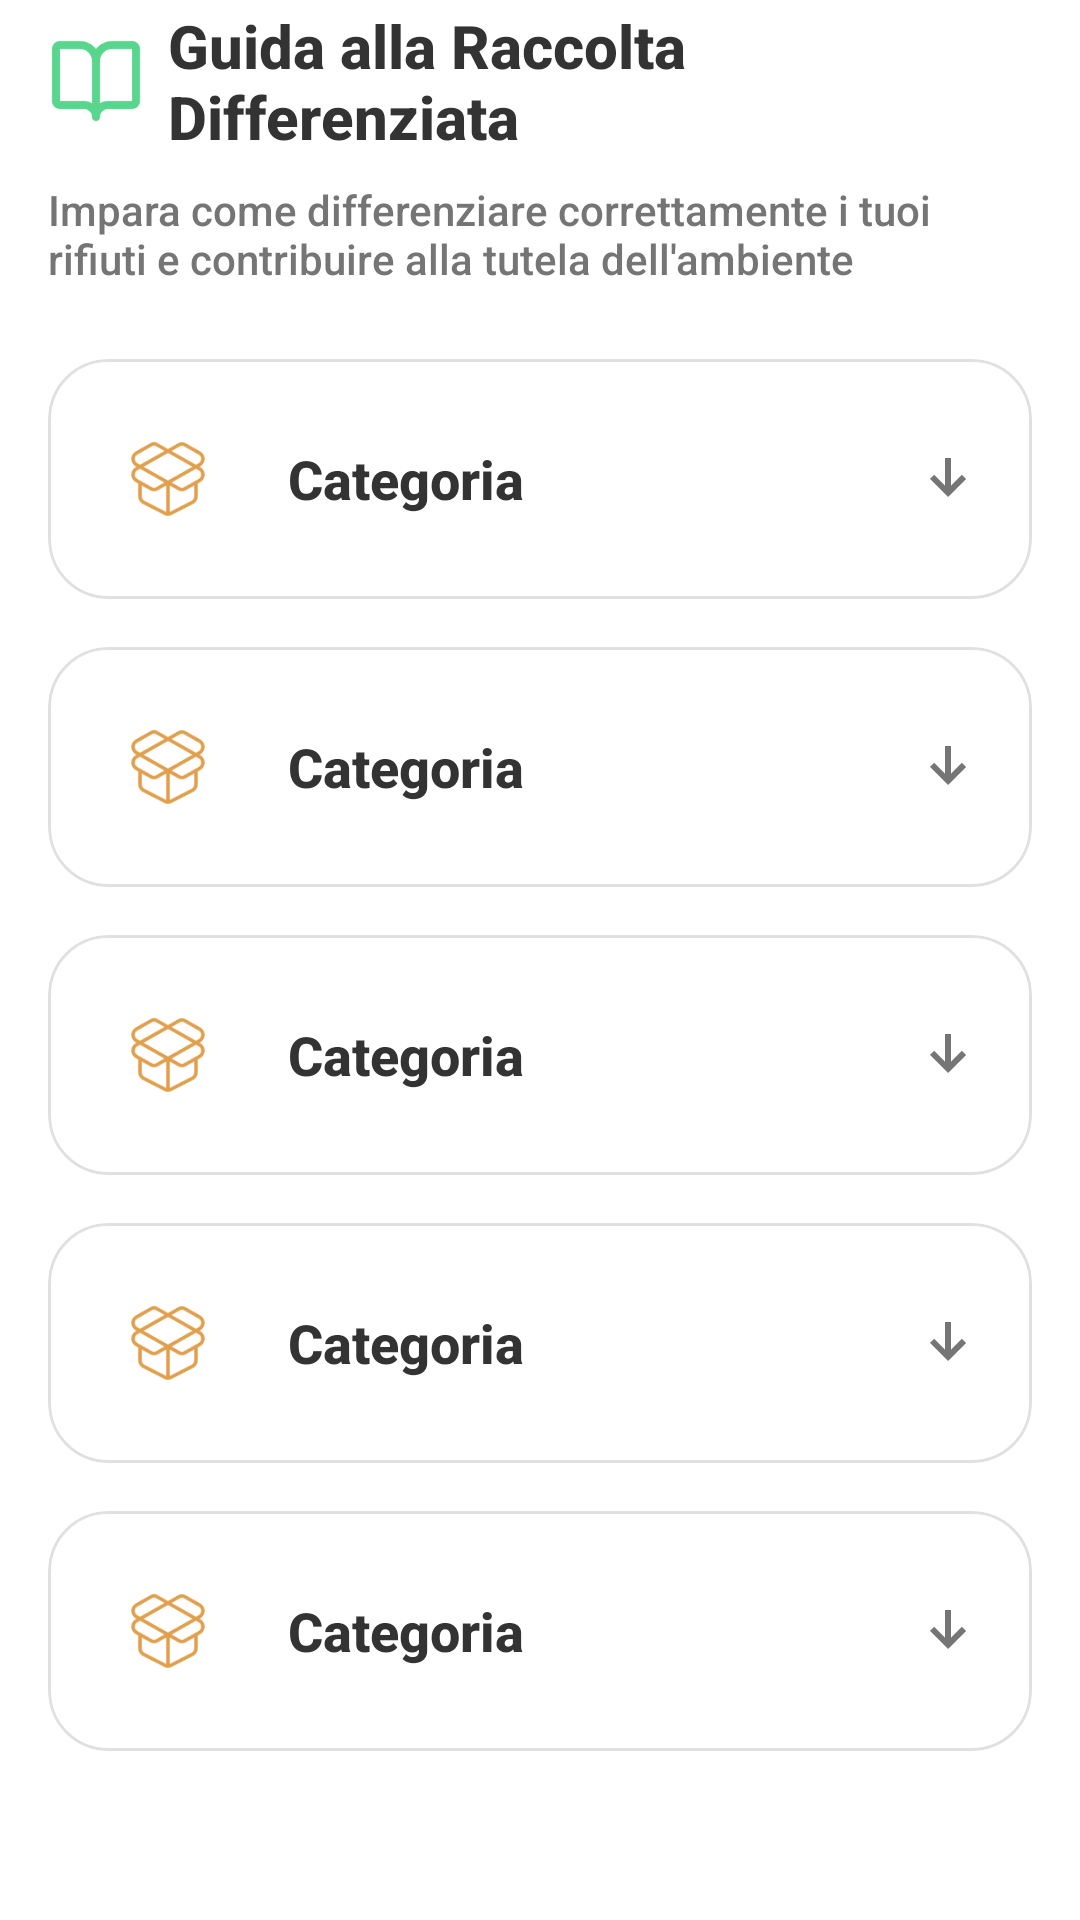

Where icons sit on this 1080px×1920px app screen, as {"left": x1, "top": y1, "right": x2, "bottom": y2}:
arrow downward: {"left": 930, "top": 458, "right": 966, "bottom": 497}, {"left": 930, "top": 746, "right": 966, "bottom": 785}, {"left": 930, "top": 1034, "right": 966, "bottom": 1073}, {"left": 930, "top": 1322, "right": 966, "bottom": 1361}, {"left": 930, "top": 1610, "right": 966, "bottom": 1649}
bookhqbold: {"left": 52, "top": 41, "right": 140, "bottom": 121}
